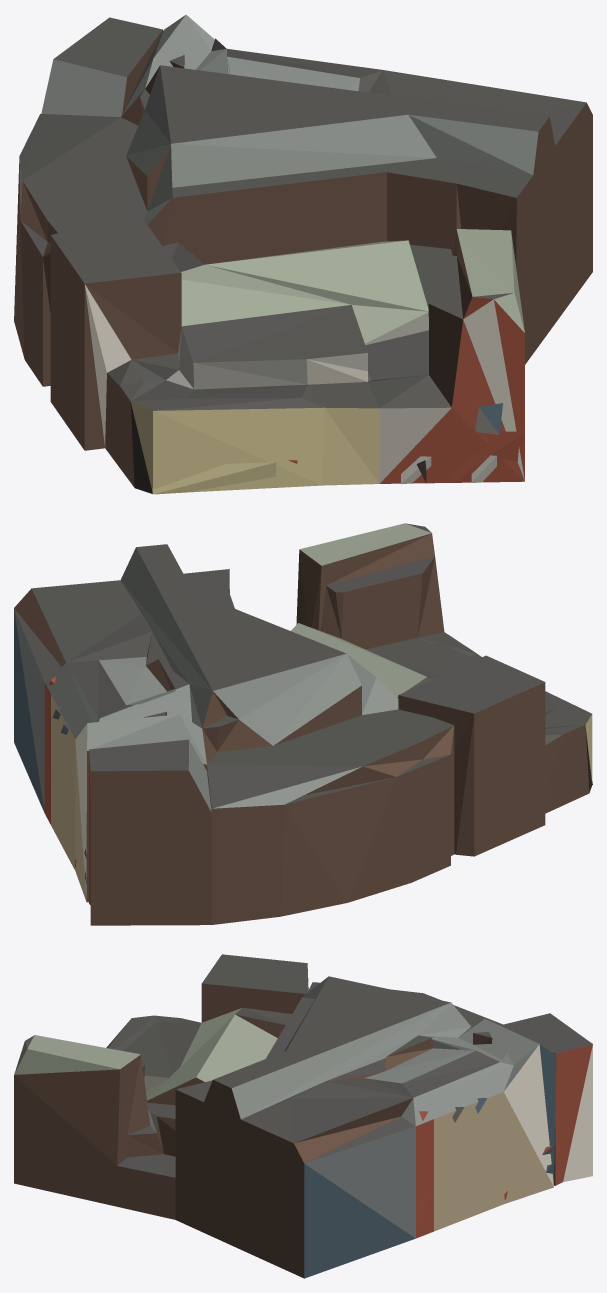
File: delamar.lod2.glb
3 views of the same model, one above another, from view 1: azimuth 30°, elevation 25°; view 2: azimuth 150°, elevation 25°; view 3: azimuth 270°, elevation 25° (orthographic). The views are drawn at different scales.
Parts seen in each view (by area): view 1: lod2; view 2: lod2; view 3: lod2.
Boxes of the visible parts, x1,y1,x2,y2 form: lod2: [14, 14, 592, 494]; lod2: [14, 523, 592, 925]; lod2: [14, 954, 592, 1278].
Bounding box in the file's own units: 62.26 × 22.61 × 75.37.
